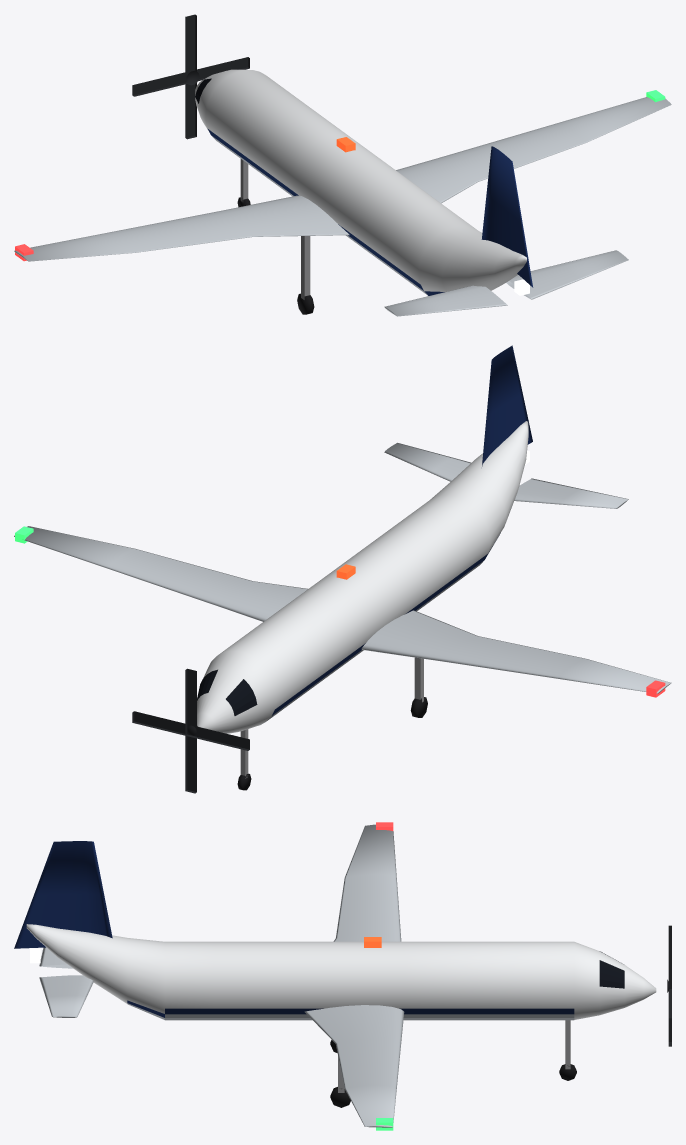
The model's file is fleet_turboprop1_lod0.glb.
The picture shows the model from 3 angles, top to bottom: view 1: azimuth 30°, elevation 25°; view 2: azimuth 150°, elevation 25°; view 3: azimuth 270°, elevation 25°; orthographic projection. The views are drawn at different scales.
Parts seen in each view (by area): view 1: fleet_turboprop1_lod0_white, fleet_turboprop1_lod0_wing, fleet_turboprop1_lod0_blue, fleet_turboprop1_lod0_dark, fleet_turboprop1_lod0_metal; view 2: fleet_turboprop1_lod0_white, fleet_turboprop1_lod0_wing, fleet_turboprop1_lod0_blue, fleet_turboprop1_lod0_dark, fleet_turboprop1_lod0_glass, fleet_turboprop1_lod0_metal; view 3: fleet_turboprop1_lod0_white, fleet_turboprop1_lod0_wing, fleet_turboprop1_lod0_blue, fleet_turboprop1_lod0_belly, fleet_turboprop1_lod0_glass, fleet_turboprop1_lod0_tyre, fleet_turboprop1_lod0_dark.
Part boxes in pixels (x1,y1,x2,y2): fleet_turboprop1_lod0_white: (195, 69, 526, 291); fleet_turboprop1_lod0_wing: (14, 97, 671, 316); fleet_turboprop1_lod0_blue: (208, 129, 533, 295); fleet_turboprop1_lod0_dark: (132, 14, 249, 139); fleet_turboprop1_lod0_metal: (240, 159, 310, 299); fleet_turboprop1_lod0_white: (197, 421, 528, 733); fleet_turboprop1_lod0_wing: (14, 442, 671, 693); fleet_turboprop1_lod0_blue: (272, 345, 532, 715); fleet_turboprop1_lod0_dark: (132, 668, 249, 793); fleet_turboprop1_lod0_glass: (197, 669, 257, 715); fleet_turboprop1_lod0_metal: (240, 657, 423, 778); fleet_turboprop1_lod0_white: (26, 924, 656, 1019); fleet_turboprop1_lod0_wing: (39, 824, 404, 1127); fleet_turboprop1_lod0_blue: (14, 841, 574, 1017); fleet_turboprop1_lod0_belly: (127, 1003, 574, 1020); fleet_turboprop1_lod0_glass: (599, 951, 624, 988); fleet_turboprop1_lod0_tyre: (330, 1040, 576, 1107); fleet_turboprop1_lod0_dark: (667, 925, 671, 1046).
Bounding box in the file's own units: 16.3 × 6.01 × 15.05.
